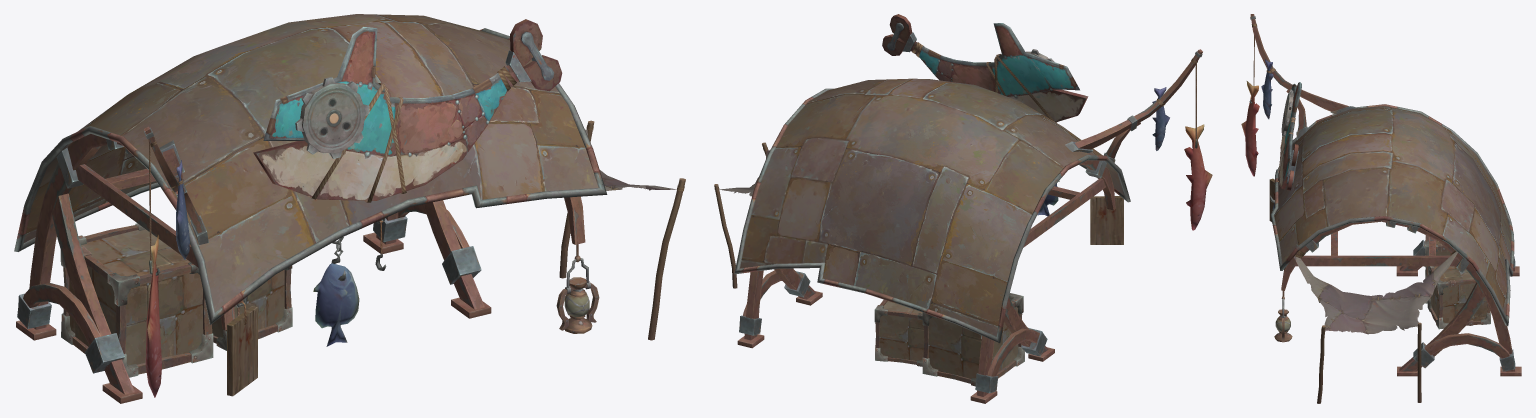
The model's file is Homeworld_Exterior_Fd_Build_Prop_BszPengzi_01_Lod0.fbx.
3 views of the same model, side by side, from view 1: azimuth 30°, elevation 25°; view 2: azimuth 150°, elevation 25°; view 3: azimuth 270°, elevation 25° (orthographic). The views are drawn at different scales.
Parts seen in each view (by area): view 1: Area_Fd_Prop_YSZ_Tanwei_01_Lod0, Area_Fd_Prop_YSZ_Tongyongxiangzi_02_Vo, Area_Fd_Prop_YSZ_Tongyongxiangzi_02_Vo (1), Area_Fd_Light_YSZ_Tongyongdeng_EverLit_01_Vo; view 2: Area_Fd_Prop_YSZ_Tanwei_01_Lod0, Area_Fd_Prop_YSZ_Tongyongxiangzi_02_Vo, Area_Fd_Prop_YSZ_Tongyongxiangzi_02_Vo (1); view 3: Area_Fd_Prop_YSZ_Tanwei_01_Lod0, Area_Fd_Prop_YSZ_Tongyongxiangzi_02_Vo (1), Area_Fd_Light_YSZ_Tongyongdeng_EverLit_01_Vo, Area_Fd_Prop_YSZ_Tongyongxiangzi_02_Vo.
Boxes of the visible parts, x1,y1,x2,y2 form: Area_Fd_Prop_YSZ_Tanwei_01_Lod0: (14,14,685,403); Area_Fd_Prop_YSZ_Tongyongxiangzi_02_Vo: (60,223,213,377); Area_Fd_Prop_YSZ_Tongyongxiangzi_02_Vo (1): (212,265,292,350); Area_Fd_Light_YSZ_Tongyongdeng_EverLit_01_Vo: (556,244,599,333); Area_Fd_Prop_YSZ_Tanwei_01_Lod0: (714,14,1212,403); Area_Fd_Prop_YSZ_Tongyongxiangzi_02_Vo: (922,293,1024,386); Area_Fd_Prop_YSZ_Tongyongxiangzi_02_Vo (1): (874,299,924,366); Area_Fd_Prop_YSZ_Tanwei_01_Lod0: (1241,14,1521,403); Area_Fd_Prop_YSZ_Tongyongxiangzi_02_Vo (1): (1427,266,1490,329); Area_Fd_Light_YSZ_Tongyongdeng_EverLit_01_Vo: (1274,290,1292,342); Area_Fd_Prop_YSZ_Tongyongxiangzi_02_Vo: (1425,235,1451,303).
Bounding box in the file's own units: 11.89 × 7.43 × 8.07.
